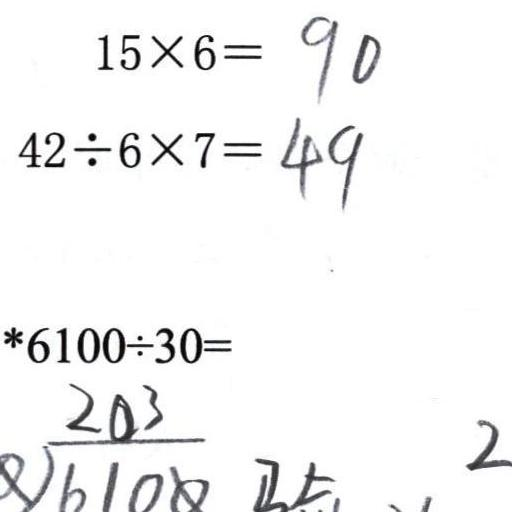ans: (276, 111, 362, 208), (295, 7, 381, 100)
